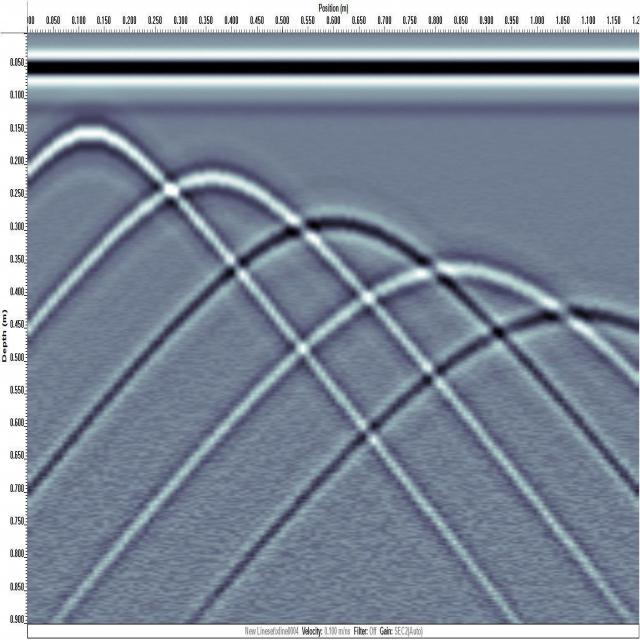hyperbola: (236, 202, 432, 279), (370, 236, 557, 315), (25, 110, 169, 194), (143, 158, 301, 232), (500, 277, 640, 356)
